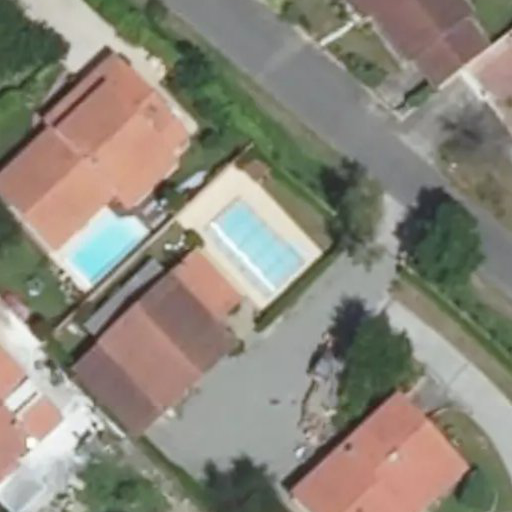pool: (203, 226, 308, 248)
